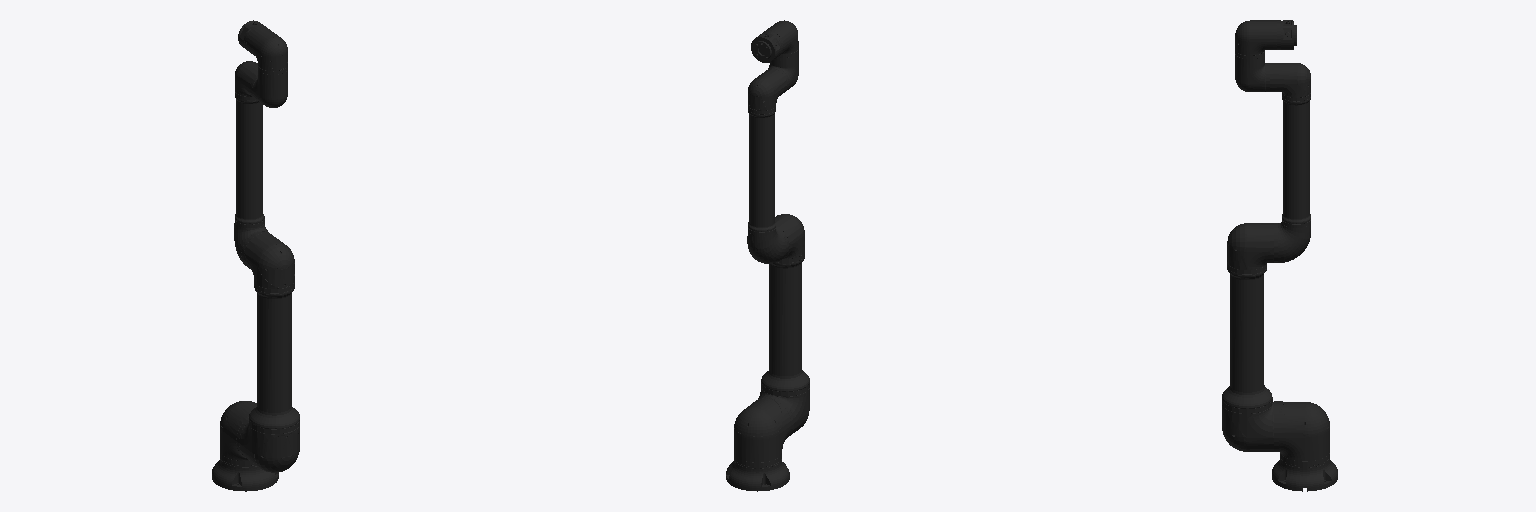
URDF robot description (RC10):
<?xml version="1.0" encoding="utf-8"?>
<!-- This URDF was automatically created by SolidWorks to URDF Exporter! Originally created by [author] ([email redacted]) 
     Commit Version: 1.6.0-4-g7f85cfe  Build Version: 1.6.7995.38578
     For more information, please see http://wiki.ros.org/sw_urdf_exporter -->
<robot
  name="RC10">
  <link
    name="base_link">
    <inertial>
      <origin
        xyz="-3.38390741484675E-05 -0.0973178586489975 0.575402860747505"
        rpy="0 0 0" />
      <mass
        value="156.563494224155" />
      <inertia
        ixx="34.6372554238751"
        ixy="0.000516925645420627"
        ixz="-0.00303029721105787"
        iyy="33.7801257863321"
        iyz="0.504737010979515"
        izz="1.1844271387677" />
    </inertial>
    <visual>
      <origin
        xyz="0 0 0"
        rpy="0 0 0" />
      <geometry>
        <mesh
          filename="package://RC10/meshes/base_link.STL" />
      </geometry>
      <material
        name="dark_gray">
        <color
          rgba="0.2 0.2 0.2 1" />
      </material>
    </visual>
    <collision>
      <origin
        xyz="0 0 0"
        rpy="0 0 0" />
      <geometry>
        <mesh
          filename="package://RC10/meshes/base_link.STL" />
      </geometry>
    </collision>
  </link>
  <link
    name="link_1">
    <inertial>
      <origin
        xyz="-0.0973178586489975 3.38390741488516E-05 0.486402860747505"
        rpy="0 0 0" />
      <mass
        value="156.563494224155" />
      <inertia
        ixx="33.7801257863321"
        ixy="-0.000516925645417504"
        ixz="0.504737010979515"
        iyy="34.6372554238751"
        iyz="0.00303029721105482"
        izz="1.1844271387677" />
    </inertial>
    <visual>
      <origin
        xyz="0 0 0"
        rpy="0 0 0" />
      <geometry>
        <mesh
          filename="package://RC10/meshes/link_1.STL" />
      </geometry>
      <material
        name="dark_gray">
        <color
          rgba="0.2 0.2 0.2 1" />
      </material>
    </visual>
    <collision>
      <origin
        xyz="0 0 0"
        rpy="0 0 0" />
      <geometry>
        <mesh
          filename="package://RC10/meshes/link_1.STL" />
      </geometry>
    </collision>
  </link>
  <joint
    name="joint_1"
    type="revolute">
    <origin
      xyz="0 0 0.089"
      rpy="0 0 1.5708" />
    <parent
      link="base_link" />
    <child
      link="link_1" />
    <axis
      xyz="0 0 1" />
    <limit
      lower="-3.1416"
      upper="3.1415"
      effort="100"
      velocity="15707" />
  </joint>
  <link
    name="link_2">
    <inertial>
      <origin
        xyz="0.406902860747505 3.38390741493429E-05 0.00281785864899585"
        rpy="0 0 0" />
      <mass
        value="156.563494224155" />
      <inertia
        ixx="1.18442713876769"
        ixy="0.00303029721107029"
        ixz="-0.504737010979411"
        iyy="34.6372554238751"
        iyz="0.000516925645418267"
        izz="33.7801257863321" />
    </inertial>
    <visual>
      <origin
        xyz="0 0 0"
        rpy="0 0 0" />
      <geometry>
        <mesh
          filename="package://RC10/meshes/link_2.STL" />
      </geometry>
      <material
        name="dark_gray">
        <color
          rgba="0.2 0.2 0.2 1" />
      </material>
    </visual>
    <collision>
      <origin
        xyz="0 0 0"
        rpy="0 0 0" />
      <geometry>
        <mesh
          filename="package://RC10/meshes/link_2.STL" />
      </geometry>
    </collision>
  </link>
  <joint
    name="joint_2"
    type="revolute">
    <origin
      xyz="-0.0945 0 0.0795"
      rpy="3.1416 -1.5708 3.1416" />
    <parent
      link="link_1" />
    <child
      link="link_2" />
    <axis
      xyz="0 0 -1" />
    <limit
      lower="-3.1416"
      upper="3.1415"
      effort="100"
      velocity="15707" />
  </joint>
  <link
    name="link_3">
    <inertial>
      <origin
        xyz="-0.203097139252495 -0.000283839074149864 -0.0028178586489962"
        rpy="0 0 0" />
      <mass
        value="156.563494224155" />
      <inertia
        ixx="1.1844271387677"
        ixy="-0.00303029721105424"
        ixz="0.504737010979633"
        iyy="34.6372554238751"
        iyz="0.000516925645417615"
        izz="33.7801257863321" />
    </inertial>
    <visual>
      <origin
        xyz="0 0 0"
        rpy="0 0 0" />
      <geometry>
        <mesh
          filename="package://RC10/meshes/link_3.STL" />
      </geometry>
      <material
        name="dark_gray">
        <color
          rgba="0.2 0.2 0.2 1" />
      </material>
    </visual>
    <collision>
      <origin
        xyz="0 0 0"
        rpy="0 0 0" />
      <geometry>
        <mesh
          filename="package://RC10/meshes/link_3.STL" />
      </geometry>
    </collision>
  </link>
  <joint
    name="joint_3"
    type="revolute">
    <origin
      xyz="0.61 -0.00025 0"
      rpy="-3.1416 0 0" />
    <parent
      link="link_2" />
    <child
      link="link_3" />
    <axis
      xyz="0 0 -1" />
    <limit
      lower="-3.1416"
      upper="3.1415"
      effort="100"
      velocity="15707" />
  </joint>
  <link
    name="link_4">
    <inertial>
      <origin
        xyz="-0.753297139252228 3.3845019668215E-05 -0.0089821413510017"
        rpy="0 0 0" />
      <mass
        value="156.563494224155" />
      <inertia
        ixx="1.18442713881554"
        ixy="0.0030305612428806"
        ixz="-0.504737010975807"
        iyy="34.6372554238273"
        iyz="0.000516929629135355"
        izz="33.7801257863321" />
    </inertial>
    <visual>
      <origin
        xyz="0 0 0"
        rpy="0 0 0" />
      <geometry>
        <mesh
          filename="package://RC10/meshes/link_4.STL" />
      </geometry>
      <material
        name="dark_gray">
        <color
          rgba="0.2 0.2 0.2 1" />
      </material>
    </visual>
    <collision>
      <origin
        xyz="0 0 0"
        rpy="0 0 0" />
      <geometry>
        <mesh
          filename="package://RC10/meshes/link_4.STL" />
      </geometry>
    </collision>
  </link>
  <joint
    name="joint_4"
    type="revolute">
    <origin
      xyz="0.5502 -0.00025 -0.0118"
      rpy="-3.1416 0 0" />
    <parent
      link="link_3" />
    <child
      link="link_4" />
    <axis
      xyz="0 0 -1" />
    <limit
      lower="-3.1416"
      upper="3.1415"
      effort="100"
      velocity="15707" />
  </joint>
  <link
    name="link_5">
    <inertial>
      <origin
        xyz="0.0679821413508016 3.38390744529085E-05 -0.834097139252495"
        rpy="0 0 0" />
      <mass
        value="156.563494224155" />
      <inertia
        ixx="33.7801257863321"
        ixy="-0.000516925649227022"
        ixz="0.50473701097982"
        iyy="34.6372554238751"
        iyz="0.00303029721332692"
        izz="1.18442713876771" />
    </inertial>
    <visual>
      <origin
        xyz="0 0 0"
        rpy="0 0 0" />
      <geometry>
        <mesh
          filename="package://RC10/meshes/link_5.STL" />
      </geometry>
      <material
        name="dark_gray">
        <color
          rgba="0.2 0.2 0.2 1" />
      </material>
    </visual>
    <collision>
      <origin
        xyz="0 0 0"
        rpy="0 0 0" />
      <geometry>
        <mesh
          filename="package://RC10/meshes/link_5.STL" />
      </geometry>
    </collision>
  </link>
  <joint
    name="joint_5"
    type="revolute">
    <origin
      xyz="0.0808 0 0.059"
      rpy="0 1.5708 0" />
    <parent
      link="link_4" />
    <child
      link="link_5" />
    <axis
      xyz="0 0 -1" />
    <limit
      lower="-3.1416"
      upper="3.1415"
      effort="100"
      velocity="15707" />
  </joint>
  <link
    name="link_6">
    <inertial>
      <origin
        xyz="3.3839074150244E-05 -0.893097139252494 -0.0128178586489976"
        rpy="0 0 0" />
      <mass
        value="156.563494224155" />
      <inertia
        ixx="34.6372554238751"
        ixy="0.00303029721109266"
        ixz="-0.000516925645417255"
        iyy="1.18442713876771"
        iyz="0.504737010979951"
        izz="33.7801257863321" />
    </inertial>
    <visual>
      <origin
        xyz="0 0 0"
        rpy="0 0 0" />
      <geometry>
        <mesh
          filename="package://RC10/meshes/link_6.STL" />
      </geometry>
      <material
        name="dark_gray">
        <color
          rgba="0.2 0.2 0.2 1" />
      </material>
    </visual>
    <collision>
      <origin
        xyz="0 0 0"
        rpy="0 0 0" />
      <geometry>
        <mesh
          filename="package://RC10/meshes/link_6.STL" />
      </geometry>
    </collision>
  </link>
  <joint
    name="joint_6"
    type="revolute">
    <origin
      xyz="0.0808 0 0.059"
      rpy="1.5708 0 1.5708" />
    <parent
      link="link_5" />
    <child
      link="link_6" />
    <axis
      xyz="0 0 1" />
    <limit
      lower="-3.1416"
      upper="3.1415"
      effort="100"
      velocity="15707" />
  </joint>
</robot>

--- Render facts (derived) ---
3 views of the same robot in one strip: view 1: azimuth 30°, elevation 25°; view 2: azimuth 150°, elevation 25°; view 3: azimuth 270°, elevation 25° (orthographic).
Model RC10 with 7 links and 6 joints (6 revolute), rooted at base_link, posed all joints at 0.
Links seen in each view (by area): view 1: link_2, link_3, base_link, link_5, link_1, link_4; view 2: link_2, link_3, link_1, base_link, link_6, link_5, link_4; view 3: link_2, link_3, link_1, base_link, link_5, link_4, link_6.
Boxes of the visible links, x1,y1,x2,y2 form: link_2: [239, 233, 299, 472]; link_3: [234, 61, 271, 268]; base_link: [212, 453, 278, 491]; link_5: [247, 27, 287, 74]; link_1: [220, 401, 256, 460]; link_4: [250, 70, 287, 107]; link_2: [758, 214, 809, 435]; link_3: [747, 69, 789, 263]; link_1: [734, 396, 793, 462]; base_link: [726, 455, 789, 491]; link_6: [751, 31, 783, 62]; link_5: [764, 20, 798, 57]; link_4: [766, 52, 798, 92]; link_2: [1222, 223, 1273, 451]; link_3: [1270, 63, 1310, 262]; link_1: [1274, 401, 1329, 460]; base_link: [1272, 453, 1337, 491]; link_5: [1235, 20, 1276, 58]; link_4: [1235, 54, 1269, 91]; link_6: [1277, 20, 1296, 49].
Size in the robot's own frame: 0.1998 by 0.3505 by 1.51 metres.
Meshes: 7 distinct files referenced, 7 mesh visuals loaded (7 binary STL).